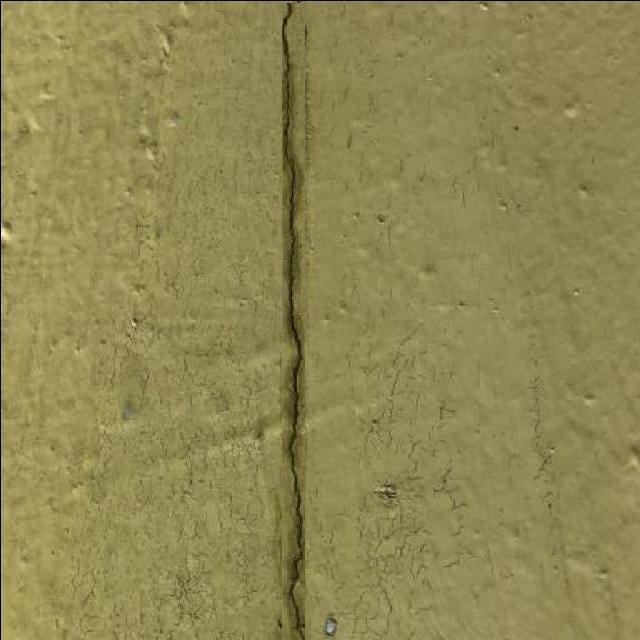Crack: (279, 0, 310, 639)
